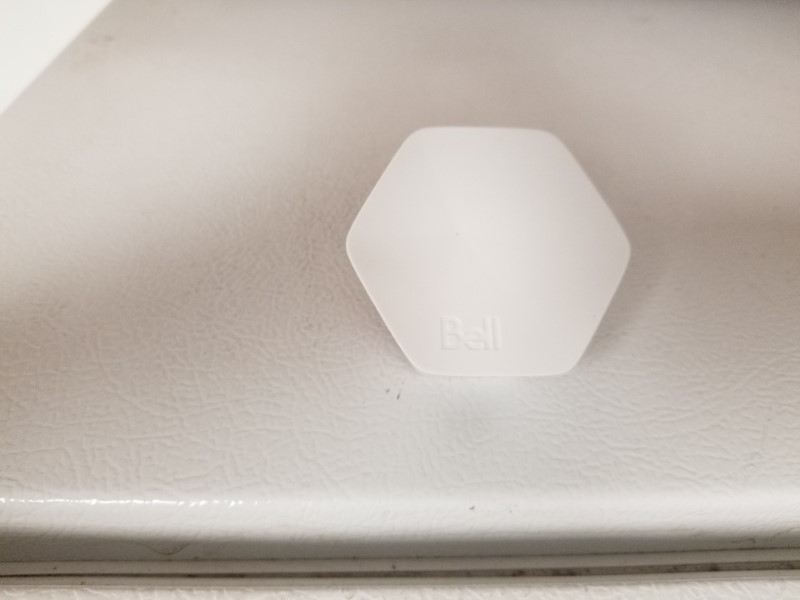pod: (339, 123, 641, 388)
